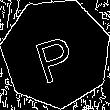P_N: (31, 23, 81, 83)
